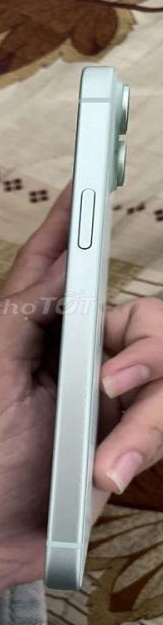scratch: (82, 335, 94, 458), (73, 472, 86, 509)
